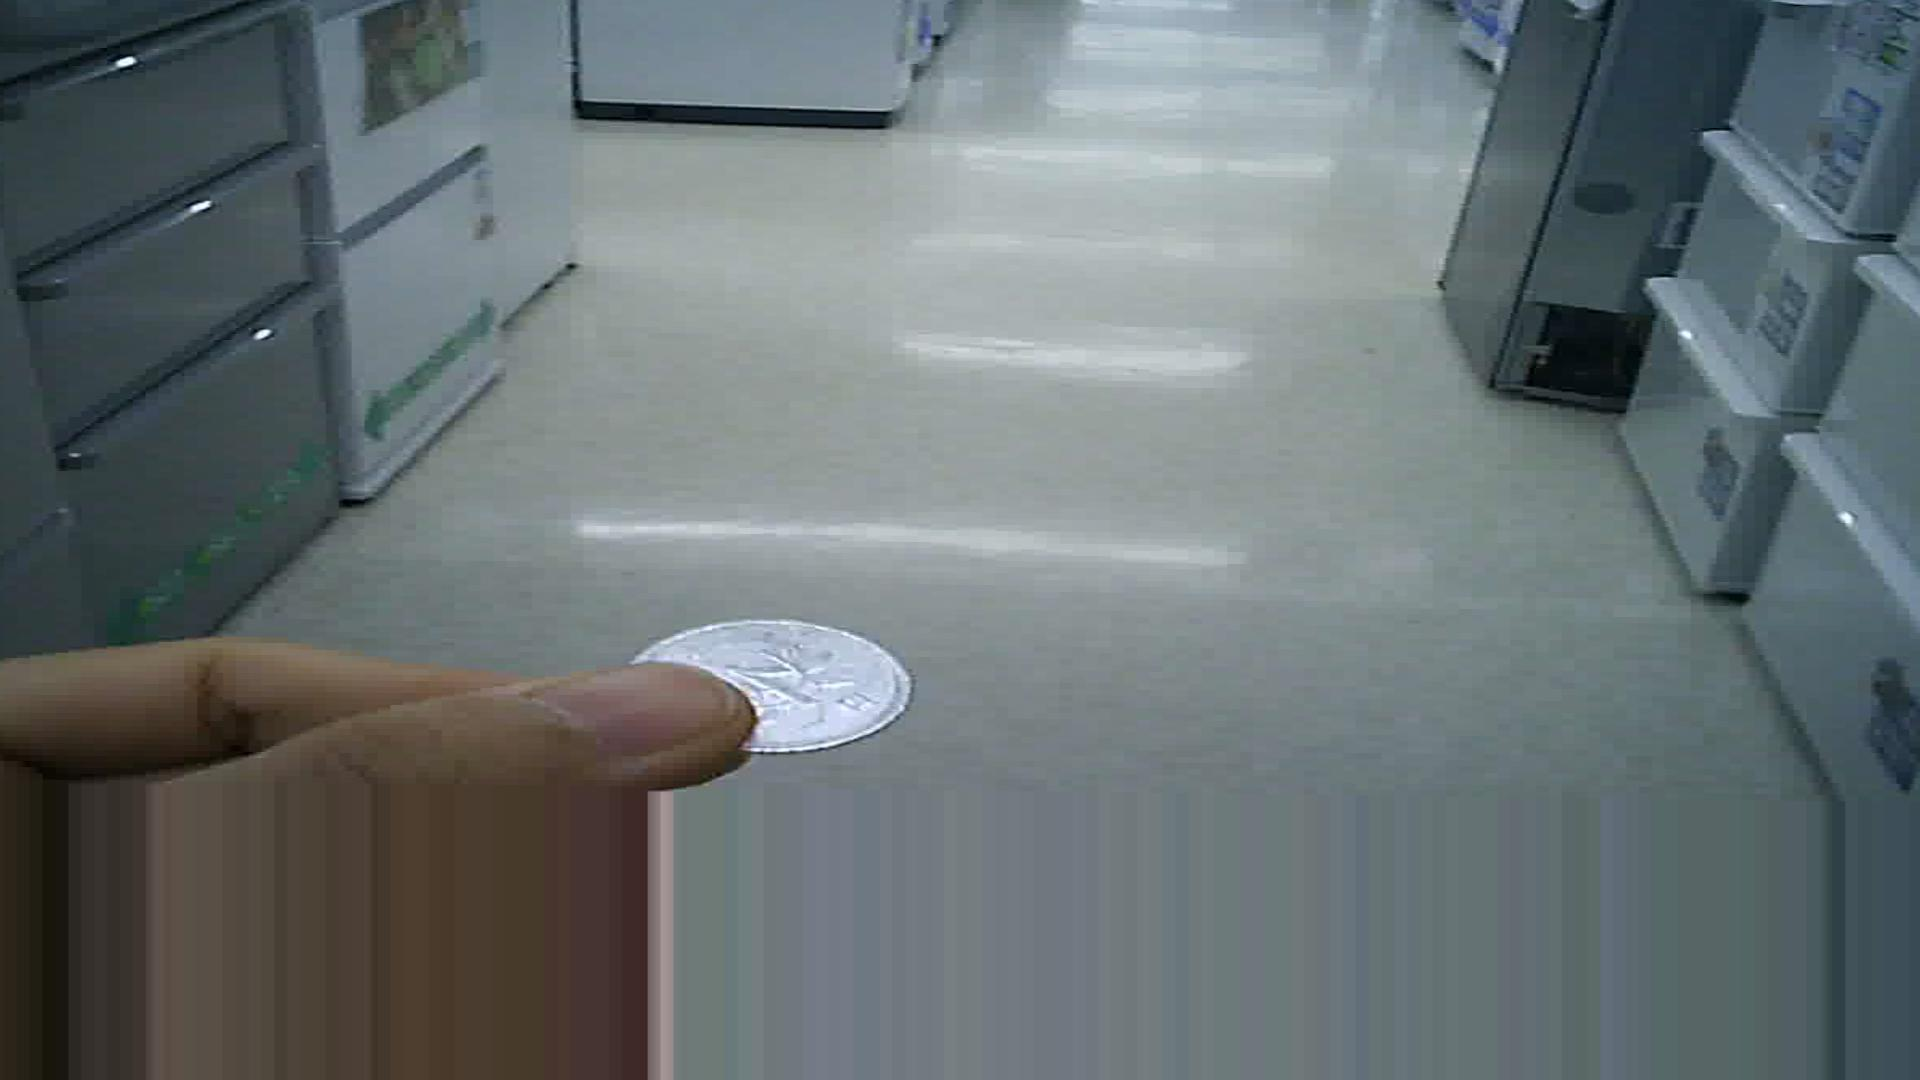1 Yen: (634, 591, 930, 777)
